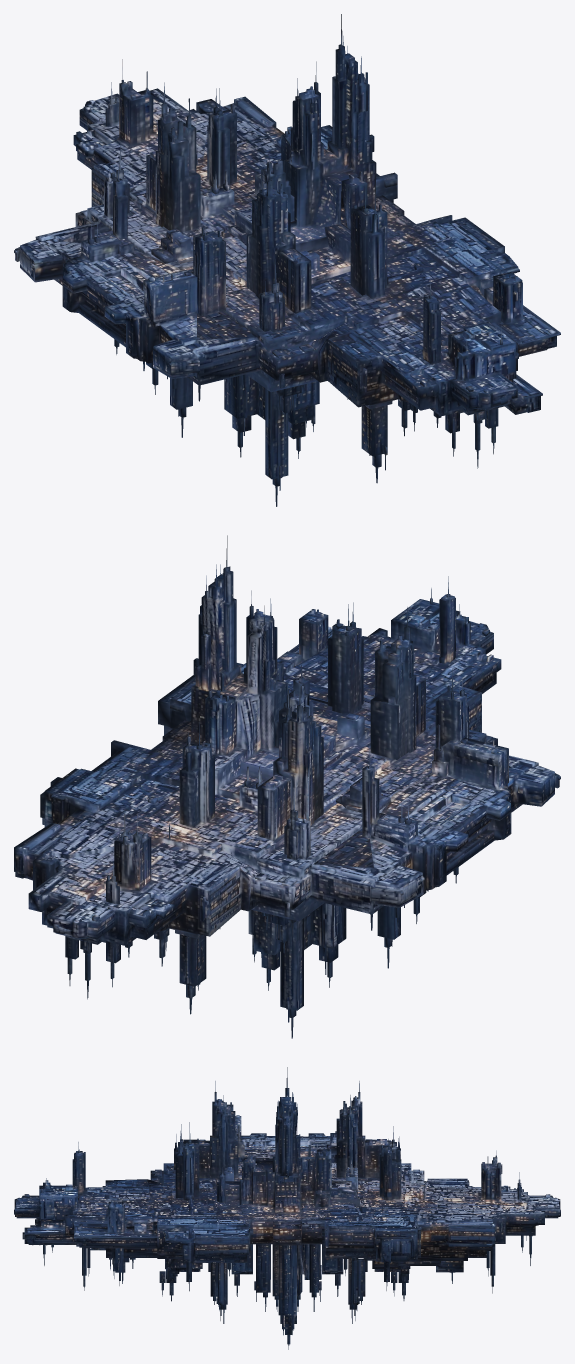
The model's file is floating-city.glb.
The picture shows the model from 3 angles, top to bottom: view 1: azimuth 30°, elevation 25°; view 2: azimuth 150°, elevation 25°; view 3: azimuth 270°, elevation 25°; orthographic projection. The views are drawn at different scales.
Parts seen in each view (by area): view 1: user-import-01; view 2: user-import-01; view 3: user-import-01.
Part boxes in pixels (bbox=[...]): user-import-01: bbox=[14, 14, 560, 506]; user-import-01: bbox=[14, 535, 560, 1038]; user-import-01: bbox=[14, 1067, 560, 1349].
Size of the model in its own units: 0.5034 by 0.5981 by 0.9995.
Materials: 1 (1 with a texture image).
